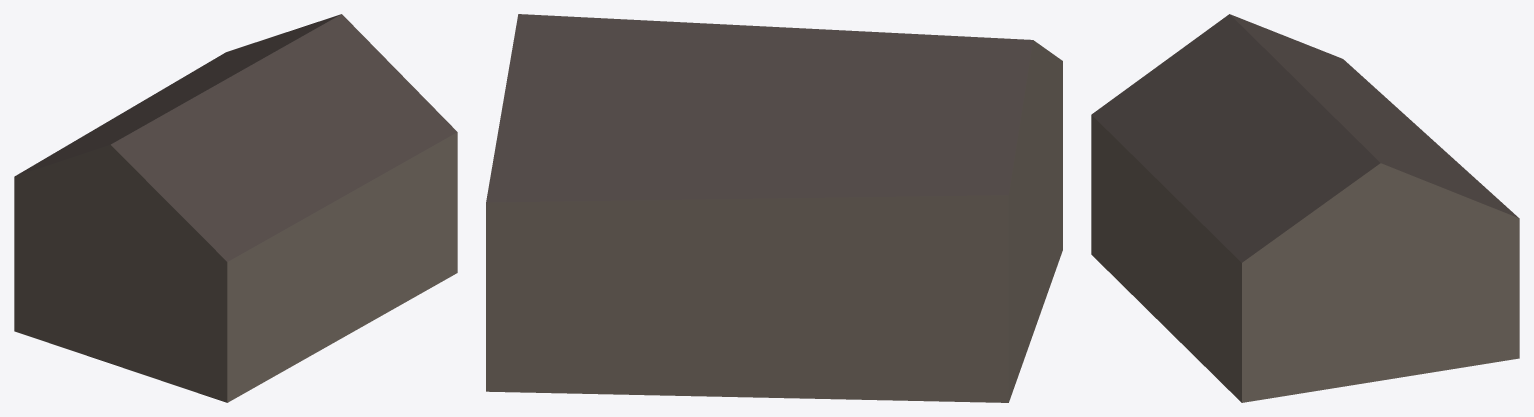
The picture shows the model from 3 angles, left to right: view 1: azimuth 30°, elevation 25°; view 2: azimuth 150°, elevation 25°; view 3: azimuth 270°, elevation 25°; orthographic projection. The views are drawn at different scales.
Parts seen in each view (by area): view 1: HP-w1516161929; view 2: HP-w1516161929; view 3: HP-w1516161929.
Part boxes in pixels (left/top/right/bottom): HP-w1516161929: left=14, top=14, right=457, bottom=402; HP-w1516161929: left=486, top=14, right=1062, bottom=402; HP-w1516161929: left=1091, top=14, right=1519, bottom=402.
Bounding box in the file's own units: 17.48 × 9.33 × 16.63.
